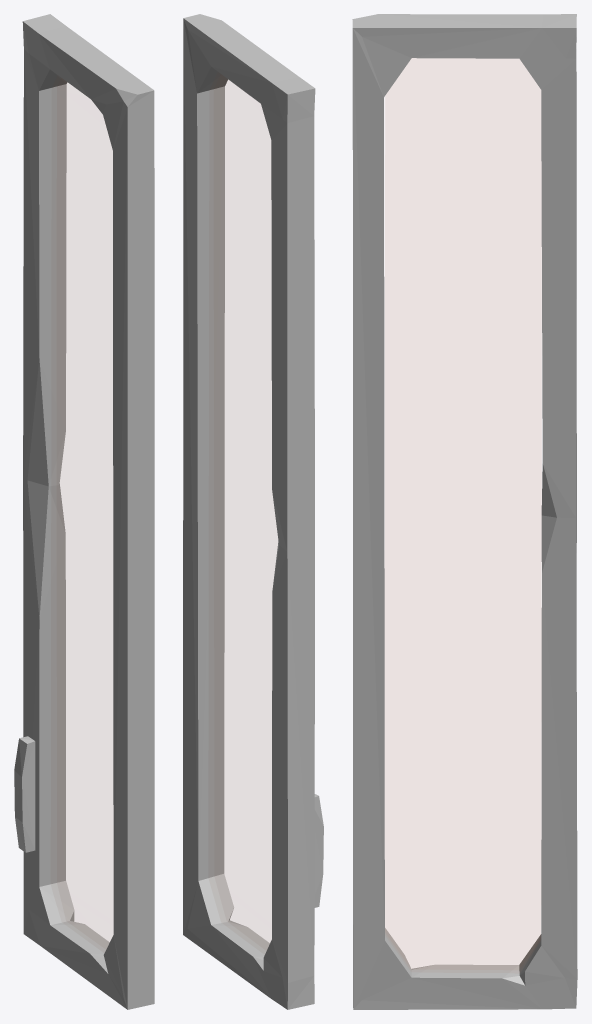
File: SFI_Library_Shelving_Cabinet_Door_002.fbx
3 renders of one model, left to right at view 1: azimuth 30°, elevation 25°; view 2: azimuth 210°, elevation 25°; view 3: azimuth 270°, elevation 25°, orthographic. The views are drawn at different scales.
Visible parts, largest first — view 1: SFI_Library_Shelving_Cabinet_Door_002; view 2: SFI_Library_Shelving_Cabinet_Door_002; view 3: SFI_Library_Shelving_Cabinet_Door_002.
Boxes of the visible parts, x1,y1,x2,y2 form: SFI_Library_Shelving_Cabinet_Door_002: (14, 14, 154, 1009); SFI_Library_Shelving_Cabinet_Door_002: (183, 14, 323, 1009); SFI_Library_Shelving_Cabinet_Door_002: (352, 14, 577, 1009).
Size of the model in its own units: 10.4 by 221 by 45.94.
